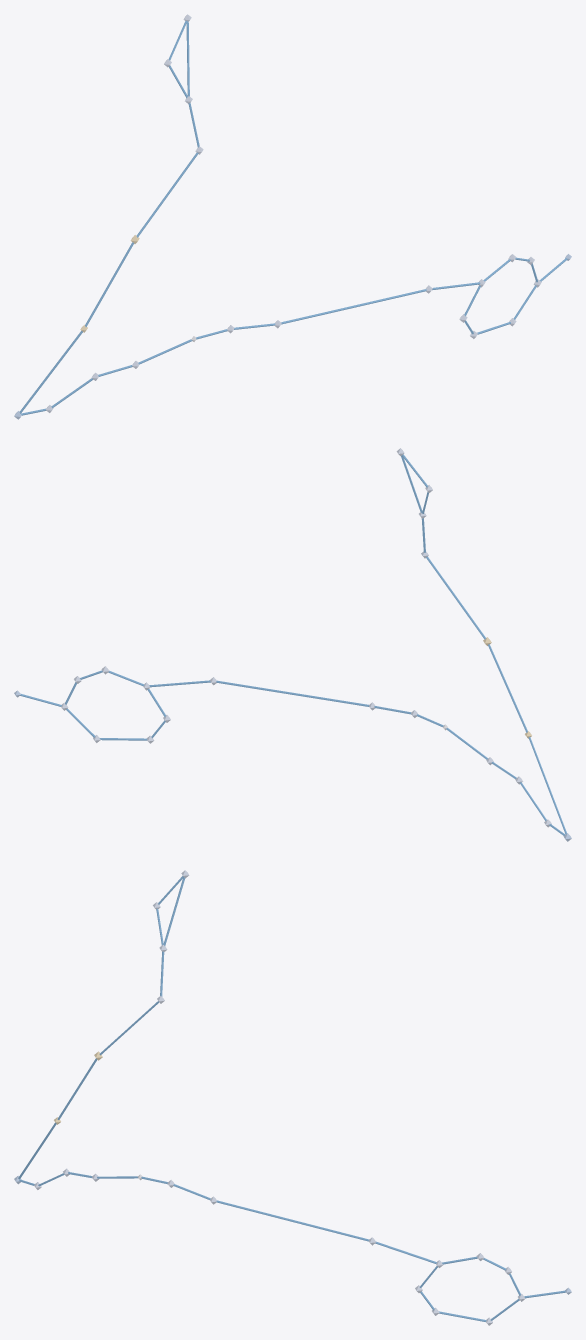
Rendered from constellation-psc.glb.
The picture shows the model from 3 angles, top to bottom: view 1: azimuth 30°, elevation 25°; view 2: azimuth 150°, elevation 25°; view 3: azimuth 330°, elevation 25°; orthographic projection. The views are drawn at different scales.
Bounding box in the file's own units: 4.6 × 3 × 0.5827.
